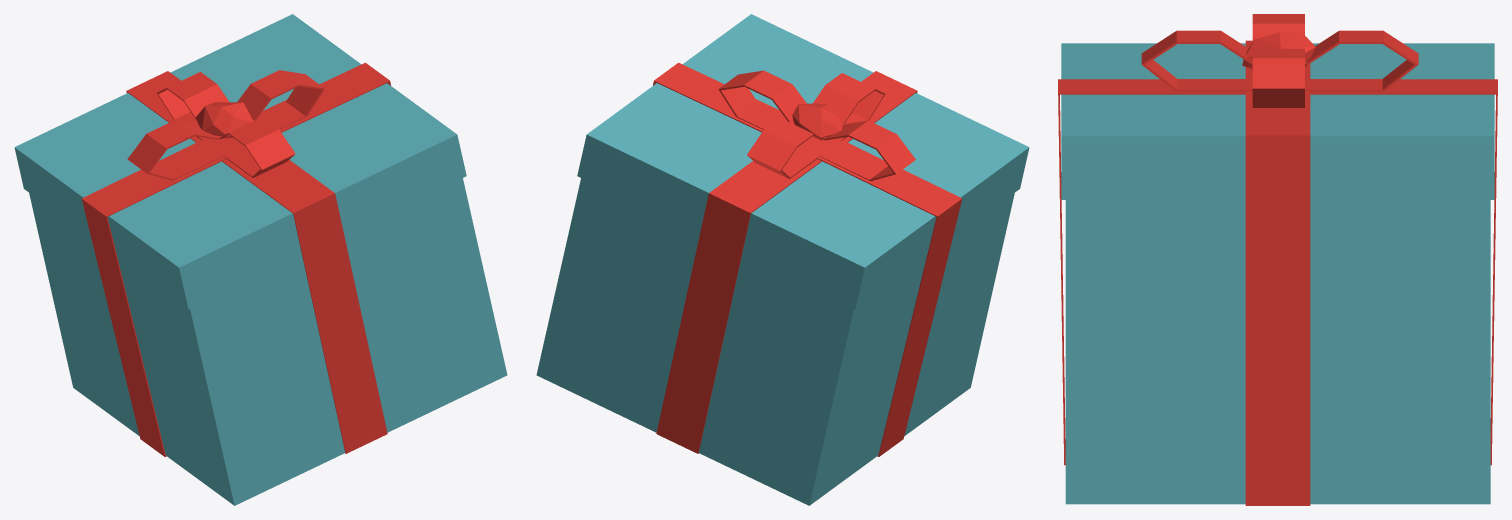
File: christmas-box.glb
The picture shows the model from 3 angles, left to right: view 1: azimuth 30°, elevation 25°; view 2: azimuth 150°, elevation 25°; view 3: azimuth 270°, elevation 25°; orthographic projection. The views are drawn at different scales.
Visible parts, largest first — view 1: Cube, Cube.001, Cube.002, Plane.001, Cube.003, Icosphere; view 2: Cube, Cube.001, Cube.002, Plane.001, Cube.003, Icosphere; view 3: Cube, Cube.001, Cube.003, Plane.001, Cube.002, Icosphere.
Part boxes in pixels (bbox=[...]): Cube: bbox=[29, 178, 507, 505]; Cube.001: bbox=[14, 14, 466, 309]; Cube.002: bbox=[126, 71, 387, 453]; Plane.001: bbox=[127, 70, 324, 180]; Cube.003: bbox=[81, 62, 391, 456]; Icosphere: bbox=[196, 102, 253, 138]; Cube: bbox=[536, 178, 1014, 505]; Cube.001: bbox=[577, 14, 1029, 309]; Cube.002: bbox=[656, 71, 917, 453]; Plane.001: bbox=[718, 70, 915, 181]; Cube.003: bbox=[653, 62, 962, 456]; Icosphere: bbox=[792, 103, 842, 140]; Cube: bbox=[1065, 200, 1490, 504]; Cube.001: bbox=[1061, 43, 1494, 199]; Cube.003: bbox=[1245, 40, 1310, 505]; Plane.001: bbox=[1141, 14, 1418, 107]; Cube.002: bbox=[1058, 79, 1497, 465]; Icosphere: bbox=[1242, 31, 1315, 69].
Size of the model in its own units: 4.05 by 3.89 by 3.5.
